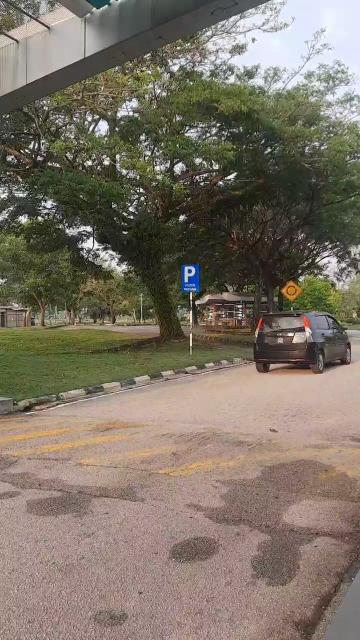car: (258, 305, 356, 378)
